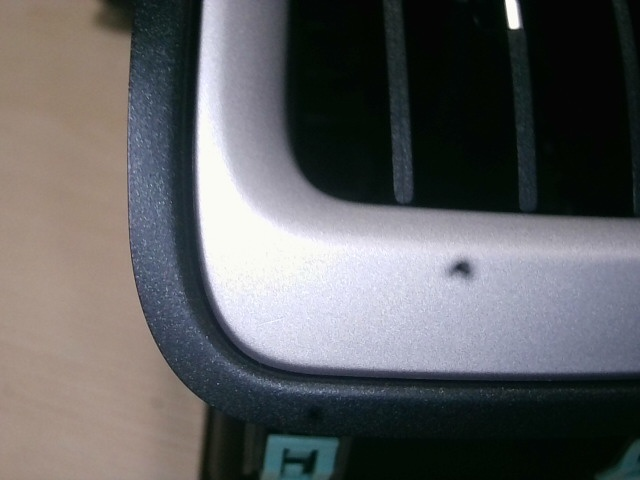NG: (256, 311, 292, 338)
